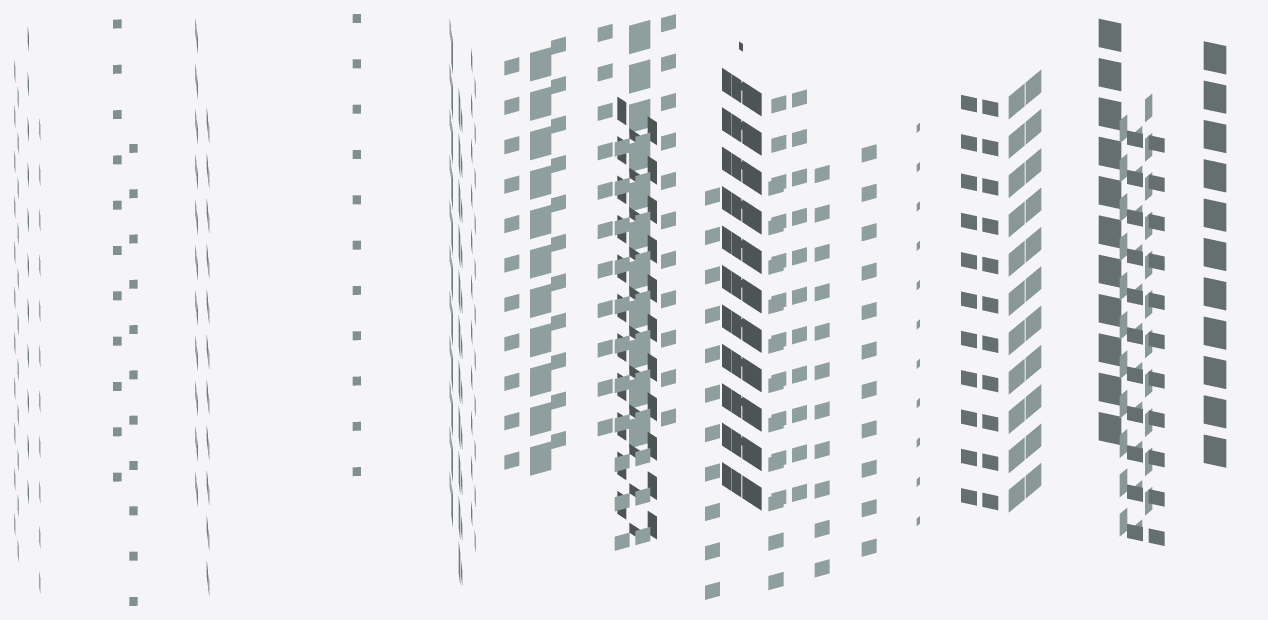
The model's file is Windows.glb.
The picture shows the model from 3 angles, left to right: view 1: azimuth 30°, elevation 25°; view 2: azimuth 150°, elevation 25°; view 3: azimuth 270°, elevation 25°; orthographic projection. The views are drawn at different scales.
Size of the model in its own units: 28.04 by 31.6 by 23.28.
